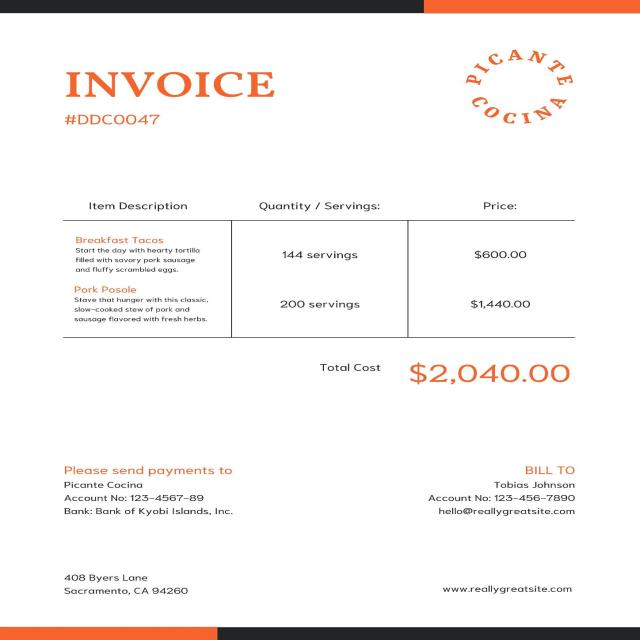paragraph: (437, 31, 585, 127), (45, 456, 257, 520), (417, 447, 587, 520), (58, 63, 294, 113), (320, 357, 582, 395), (58, 565, 202, 610), (442, 579, 575, 599), (60, 114, 184, 132)
table: (45, 190, 596, 334)
